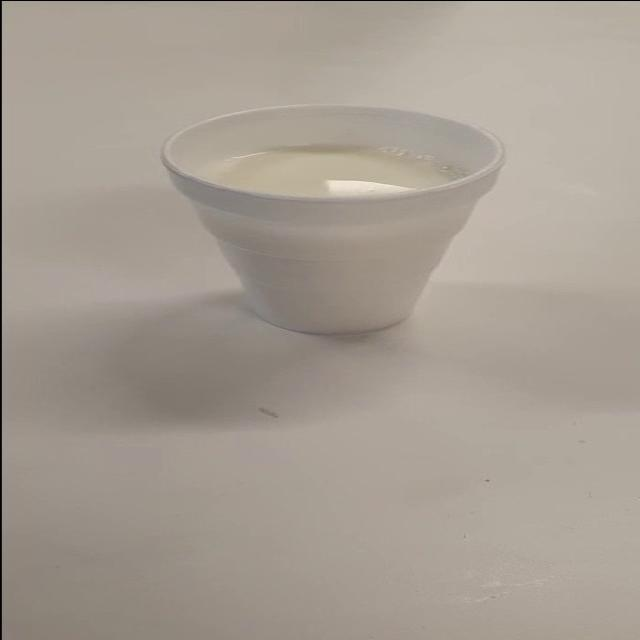Milk: (146, 80, 531, 349)
